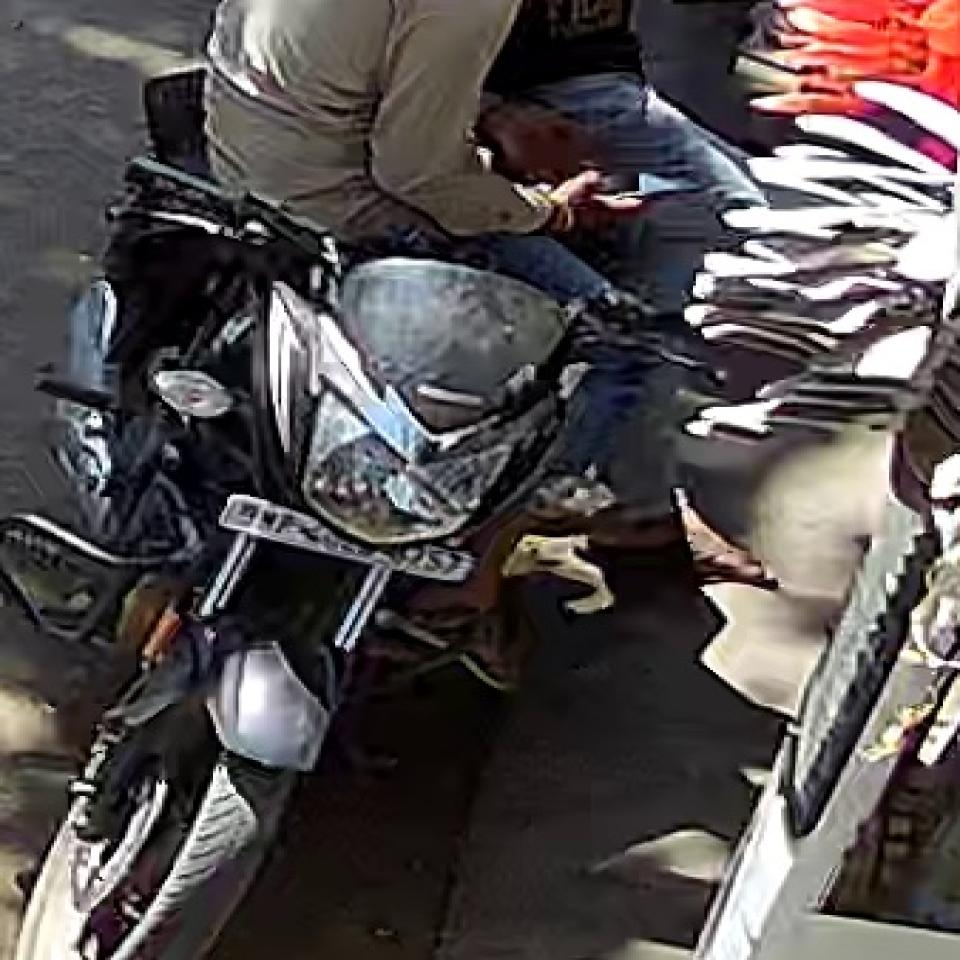head_light: (305, 382, 508, 539)
